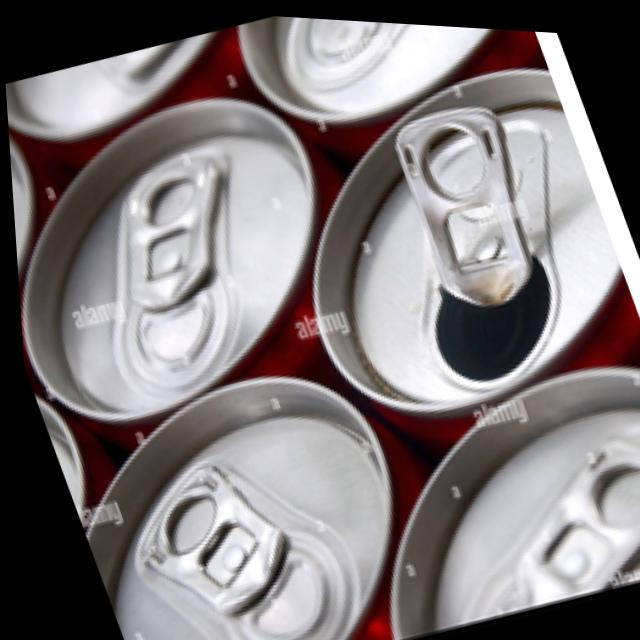aluminum_soda_cans: (241, 35, 640, 431), (3, 48, 371, 435), (32, 325, 435, 640), (310, 328, 640, 640), (234, 11, 548, 134), (25, 378, 105, 535)
